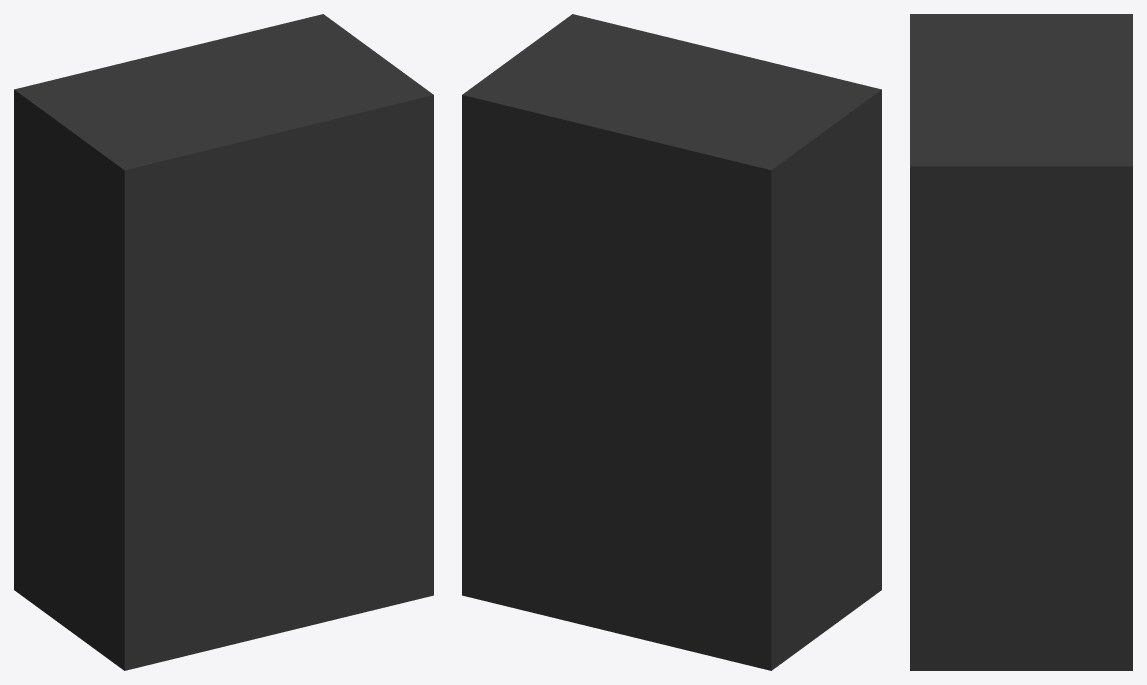
Rendered from Toilet1_C2_06.fbx.
3 views of the same model, side by side, from view 1: azimuth 30°, elevation 25°; view 2: azimuth 150°, elevation 25°; view 3: azimuth 270°, elevation 25° (orthographic).
Visible parts, largest first — view 1: Toilet1_C2_06; view 2: Toilet1_C2_06; view 3: Toilet1_C2_06.
Boxes of the visible parts, <box> form: Toilet1_C2_06: <box>14,14,433,670</box>; Toilet1_C2_06: <box>462,14,881,670</box>; Toilet1_C2_06: <box>910,14,1132,670</box>.
Bounding box in the file's own units: 3.23 × 5 × 2.
